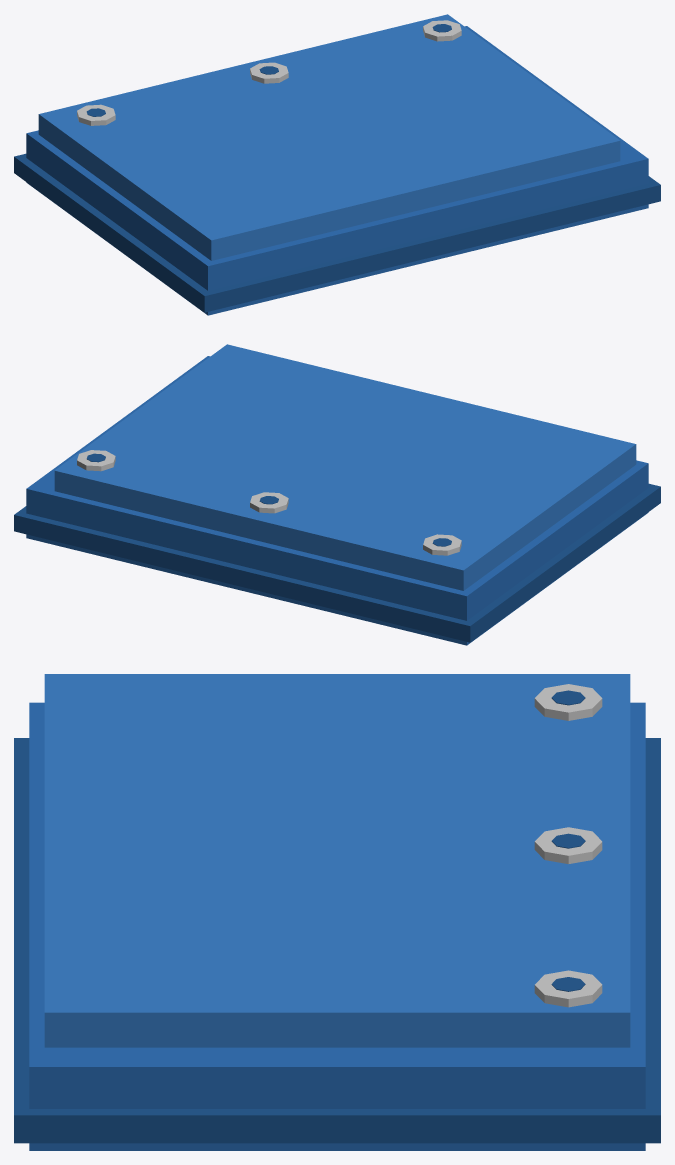
Rendered from plandeka-CHIIni_6.glb.
3 views of the same model, one above another, from view 1: azimuth 30°, elevation 25°; view 2: azimuth 150°, elevation 25°; view 3: azimuth 270°, elevation 25° (orthographic). The views are drawn at different scales.
Size of the model in its own units: 0.58 by 0.0915 by 0.42.
